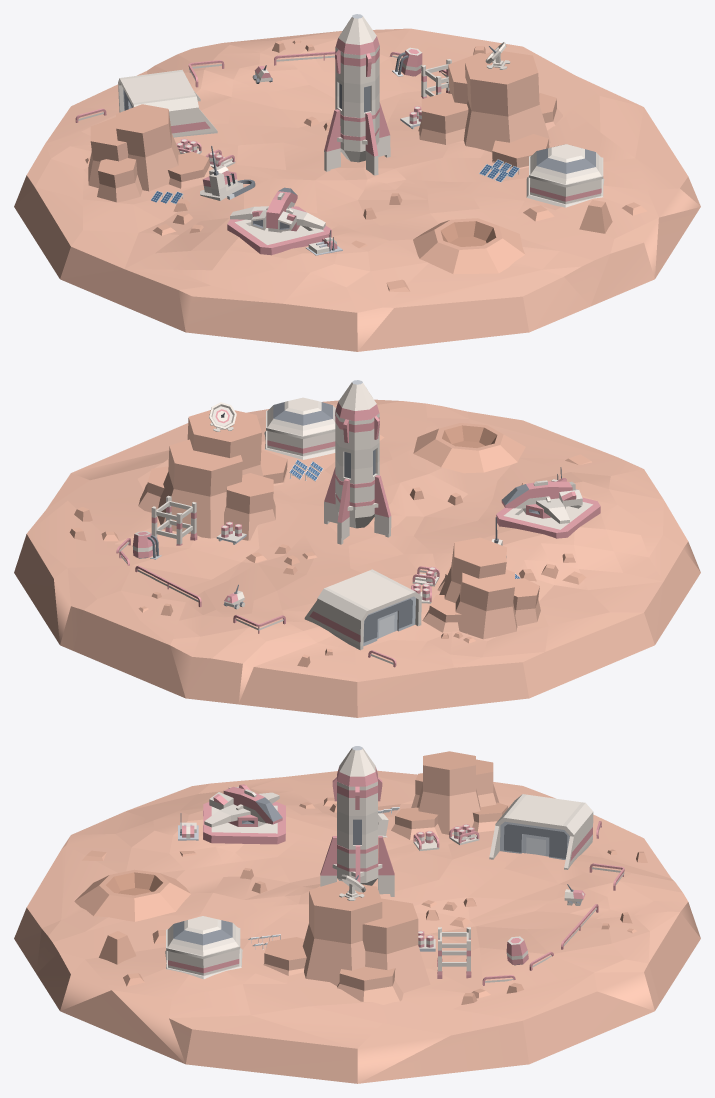
Rendered from Mars (3).gltf.
3 views of the same model, one above another, from view 1: azimuth 30°, elevation 25°; view 2: azimuth 150°, elevation 25°; view 3: azimuth 270°, elevation 25° (orthographic).
Parts seen in each view (by area): view 1: SM_Base_Dirt_01, Scene_68 (×2), Scene_69 (×2), Scene_13, Scene_59, Scene_9, Scene_10, rocks_smallB, Scene_32, Scene_85, Scene_86, Scene_12 (+12 smaller); view 2: SM_Base_Dirt_01, Scene_68 (×2), Scene_69 (×2), Scene_59, Scene_13, Scene_9, Scene_32, Scene_10, Scene_85, Scene_86, Scene_31, Scene_60 (+15 smaller); view 3: SM_Base_Dirt_01, Scene_68 (×2), Scene_69 (×2), Scene_13, Scene_59, Scene_9, Scene_32, Scene_10, rocks_smallB, Scene_86, Scene_67, Scene_31 (+15 smaller).
Boxes of the visible parts, x1,y1,x2,y2 form: SM_Base_Dirt_01: (14,28,700,351); Scene_68 (×2): (88,63,562,202); Scene_69 (×2): (90,51,556,175); Scene_13: (413,218,524,274); Scene_59: (118,71,217,136); Scene_9: (530,144,601,204); Scene_10: (526,147,604,207); rocks_smallB: (523,200,646,233); Scene_32: (227,206,331,255); Scene_85: (324,127,390,175); Scene_86: (324,102,389,156); Scene_12: (440,221,496,246); SM_Base_Dirt_01: (14,399,700,717); Scene_68 (×2): (138,418,540,639); Scene_69 (×2): (148,410,539,614); Scene_59: (305,570,421,646); Scene_13: (413,423,525,473); Scene_9: (267,397,335,455); Scene_32: (496,497,600,538); Scene_10: (264,401,335,459); Scene_85: (324,493,391,544); Scene_86: (324,467,391,522); Scene_31: (501,478,576,518); Scene_60: (304,569,421,650); SM_Base_Dirt_01: (14,770,700,1083); Scene_68 (×2): (263,765,507,1004); Scene_69 (×2): (264,751,507,980); Scene_13: (74,869,190,921); Scene_59: (489,794,593,868); Scene_9: (167,916,239,975); Scene_32: (203,802,285,844); Scene_10: (165,919,242,979); rocks_smallB: (99,930,165,986); Scene_86: (320,836,394,882); Scene_67: (504,824,567,858); Scene_31: (213,784,282,826).
Bounding box in the file's own units: 499 × 153 × 499.
